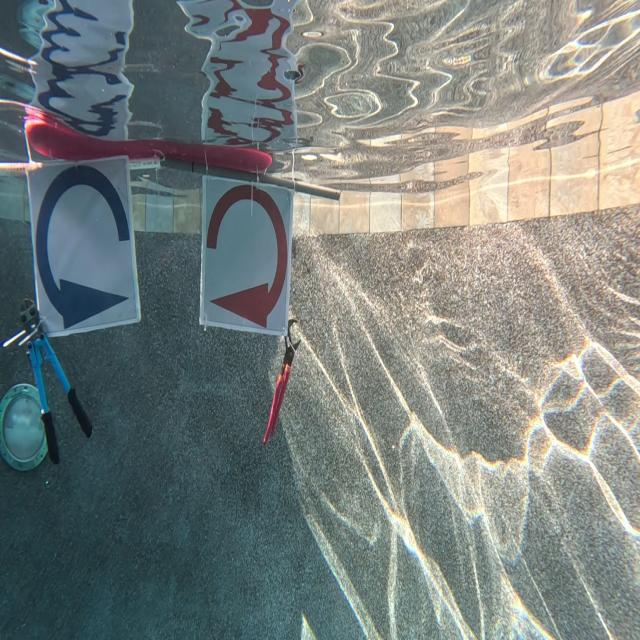blue_side: (27, 160, 137, 334)
red_side: (201, 176, 285, 326)
